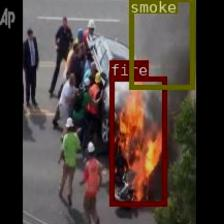fire: (109, 76, 165, 205)
smoke: (128, 0, 194, 88)
